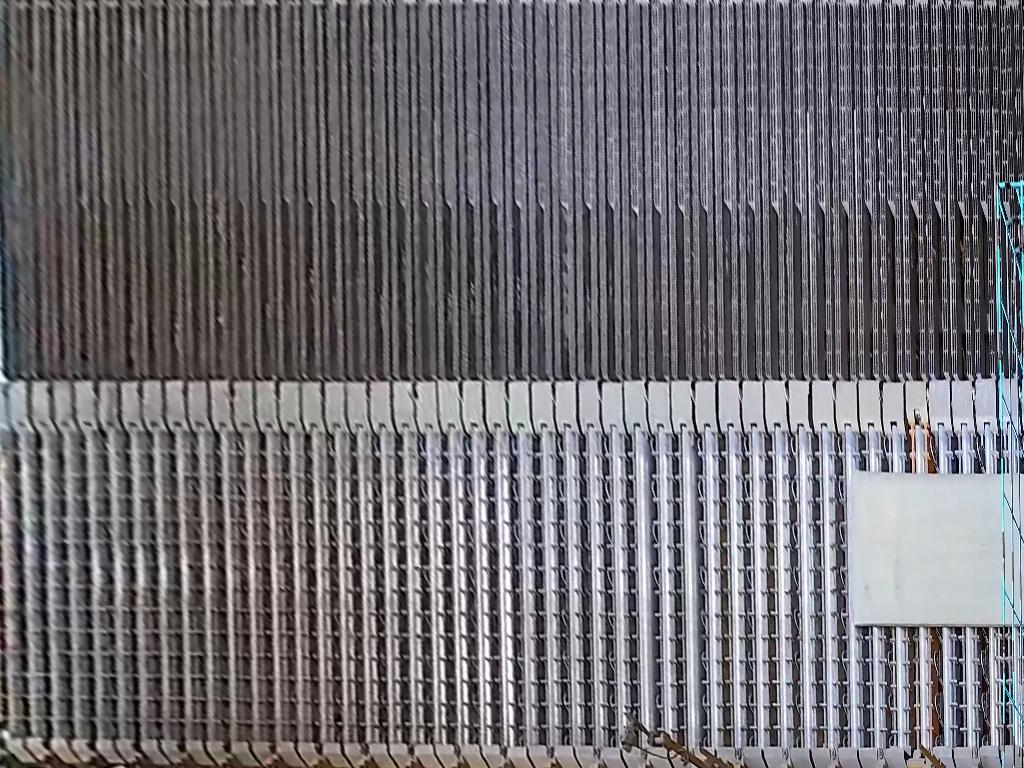steel: (844, 469, 1024, 628)
